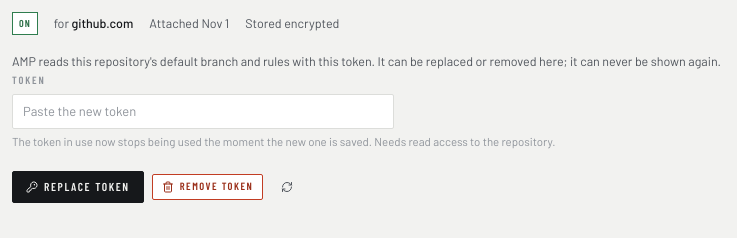
Test: GitHubCredentialPanel: the token is write-only › keeps the typed value when the server refuses, so a retry needs no re-paste
The width and height of the screenshot is (737, 238).
Type "ghp_TESTONLY1111111111111111111111111111" into the password field labelled "Token" at (203, 112), box x1=12 y1=94 x2=394 y2=129
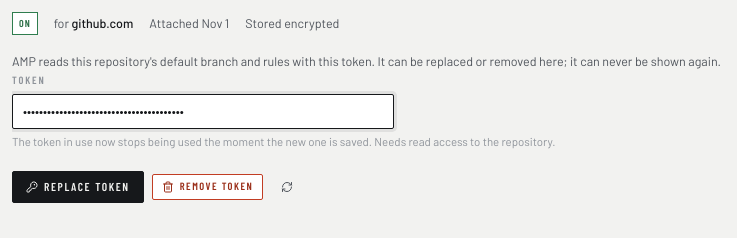
Click the button "Replace token" at (78, 187), box x1=12 y1=171 x2=144 y2=203
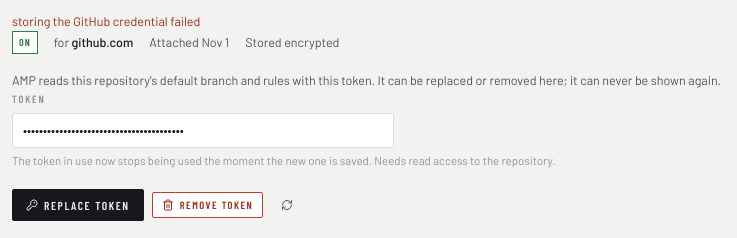
Expected: the message reads "storing the GitHub credential failed", x1=12 y1=13 x2=200 y2=29
